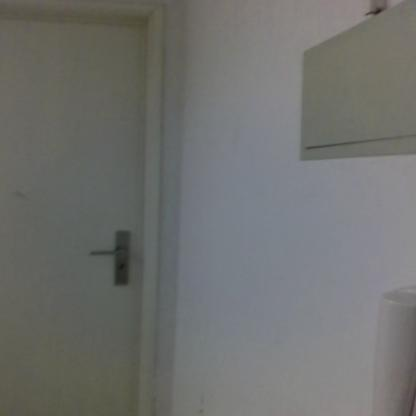door: (0, 20, 142, 416)
lever: (89, 246, 130, 259)
